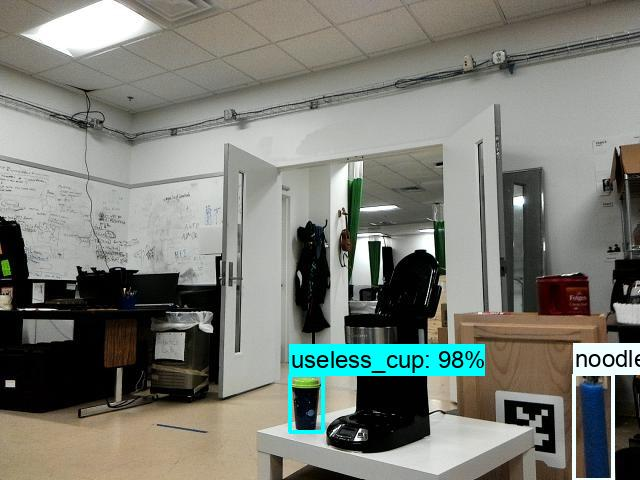noodle_handle: (578, 373, 610, 480)
useless_cup: (292, 374, 322, 429)
